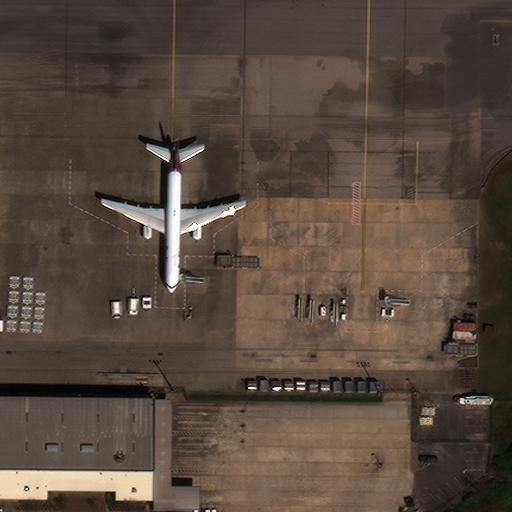Large Civil Transport: (100, 142, 246, 293)
